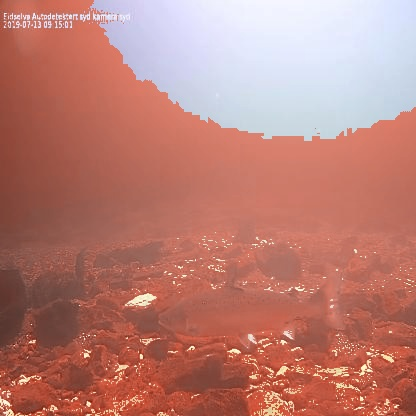salmon: (156, 270, 350, 350)
